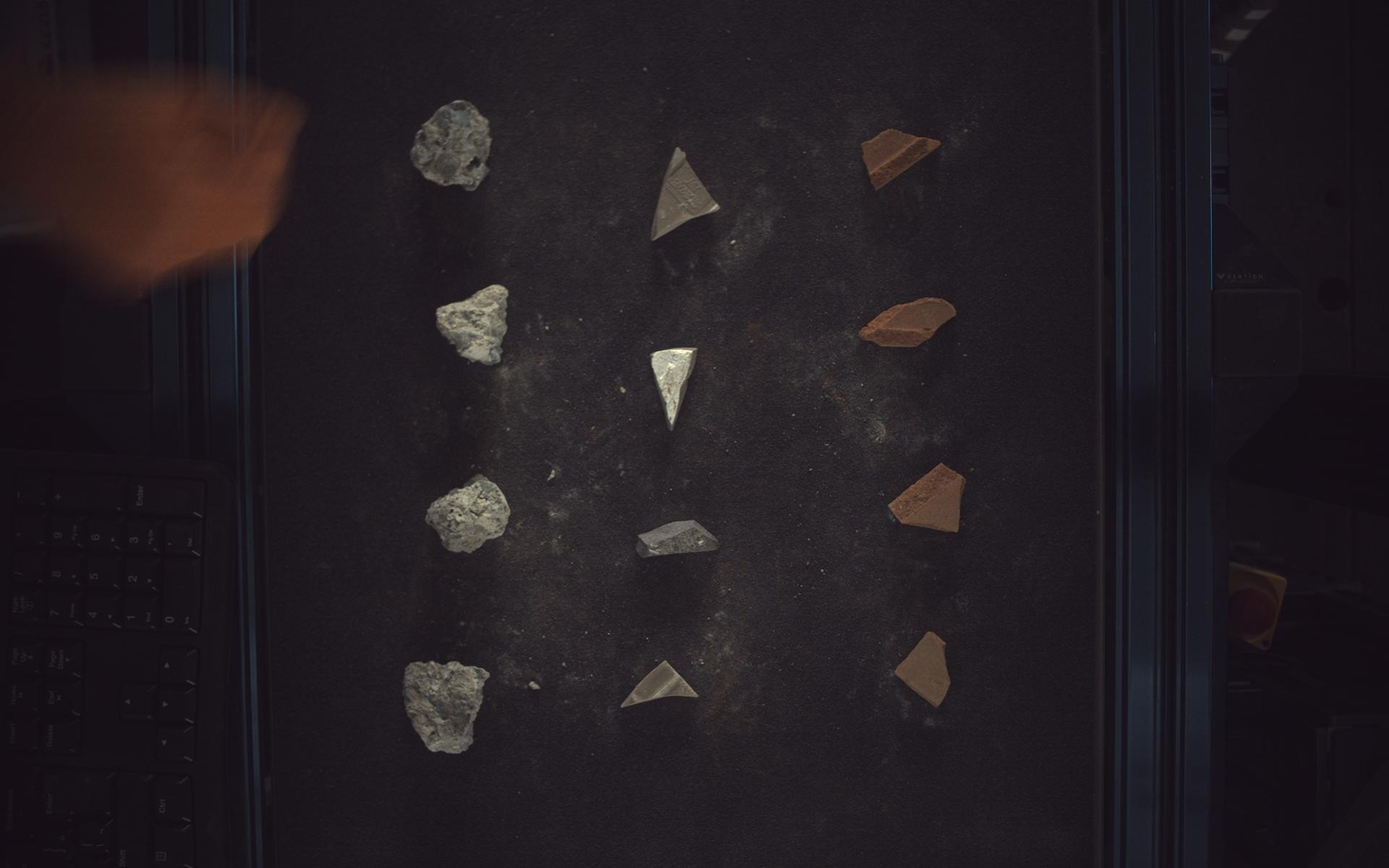brick: (891, 464, 967, 532), (861, 297, 959, 347), (865, 128, 942, 190), (896, 632, 952, 708)
concrete: (404, 662, 490, 755), (410, 98, 492, 190), (425, 475, 511, 553), (436, 284, 508, 365)
tile: (651, 146, 721, 240), (652, 348, 699, 430), (623, 662, 700, 710), (637, 522, 721, 558)
